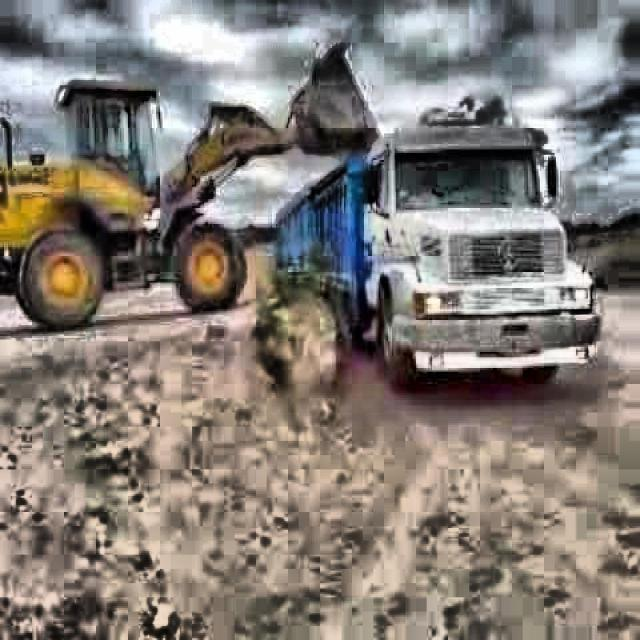dump_truck: (266, 95, 612, 412)
